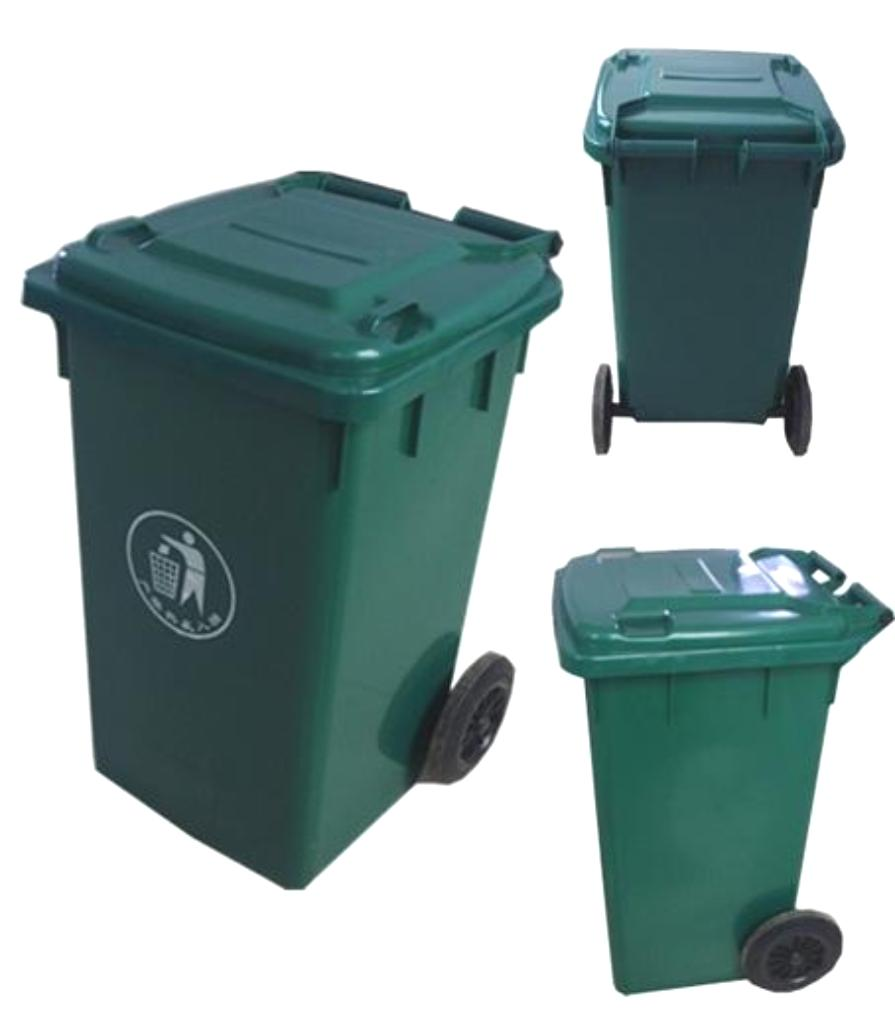dustbin: (9, 175, 546, 887), (564, 530, 895, 1009), (578, 34, 859, 476)
